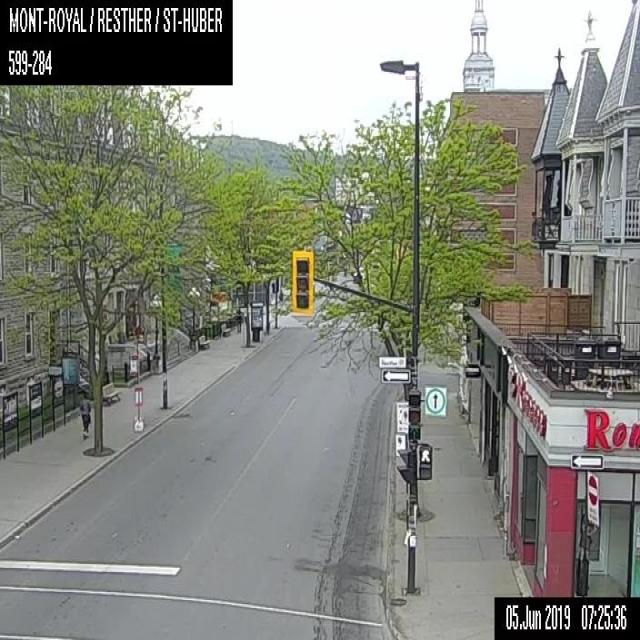pedestrian: (79, 394, 90, 439), (278, 290, 283, 306)
